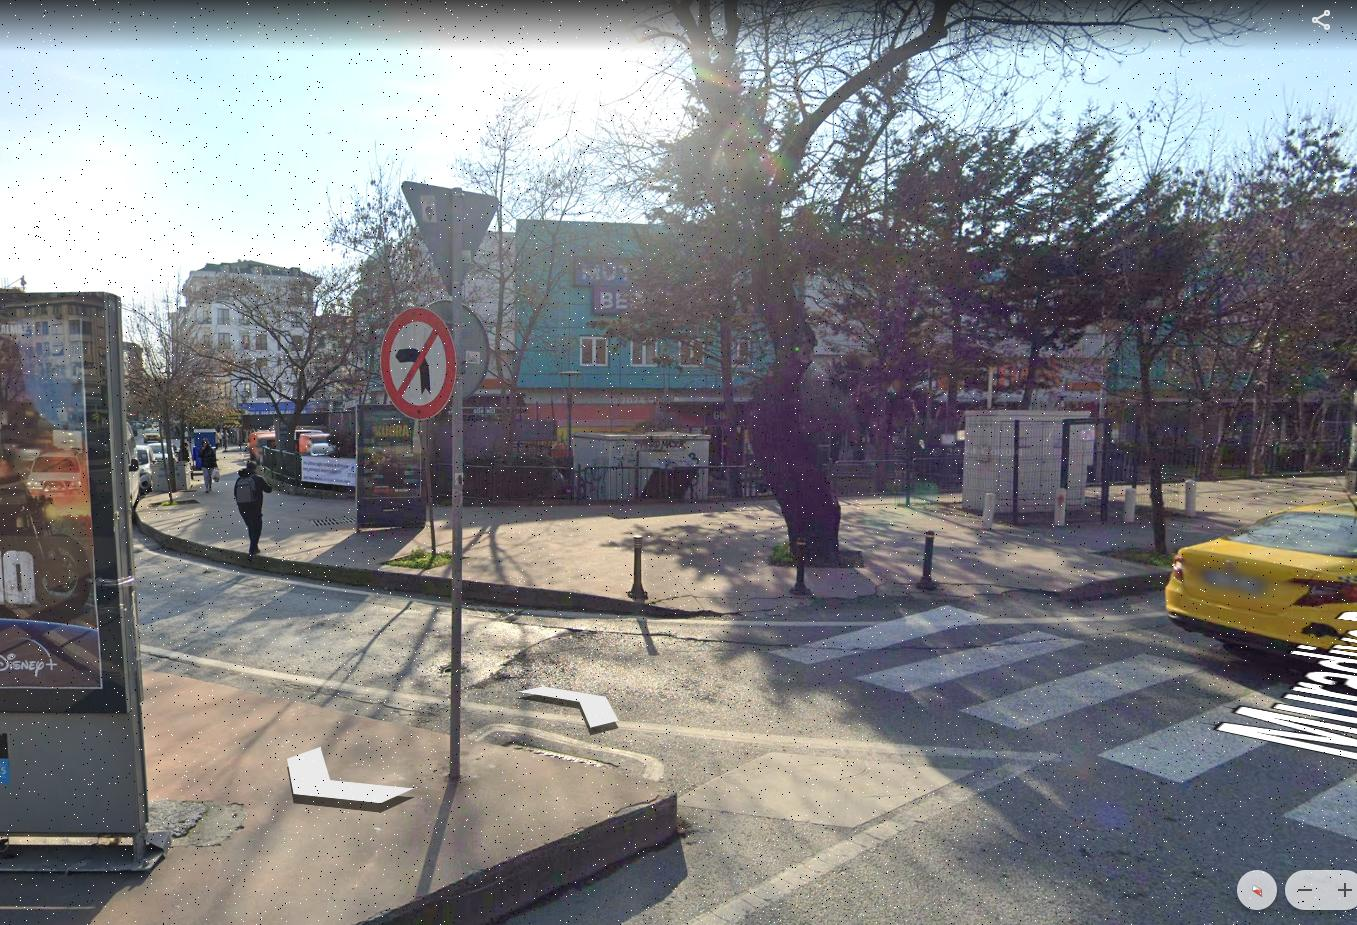leftturnsareforbidden: (383, 306, 455, 418)
